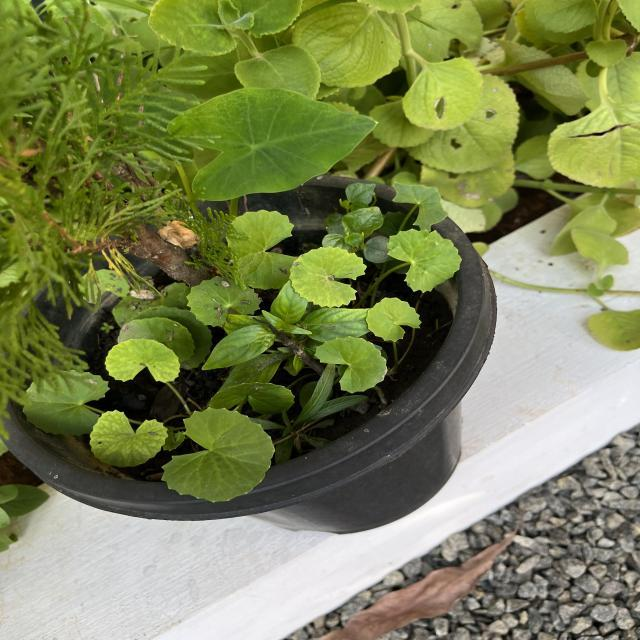Centella asiatica: (158, 404, 278, 506), (384, 226, 464, 296), (286, 242, 368, 310), (85, 407, 171, 470), (312, 334, 390, 396), (100, 337, 184, 385), (364, 296, 423, 344)
